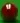brown: (0, 0, 20, 23)
